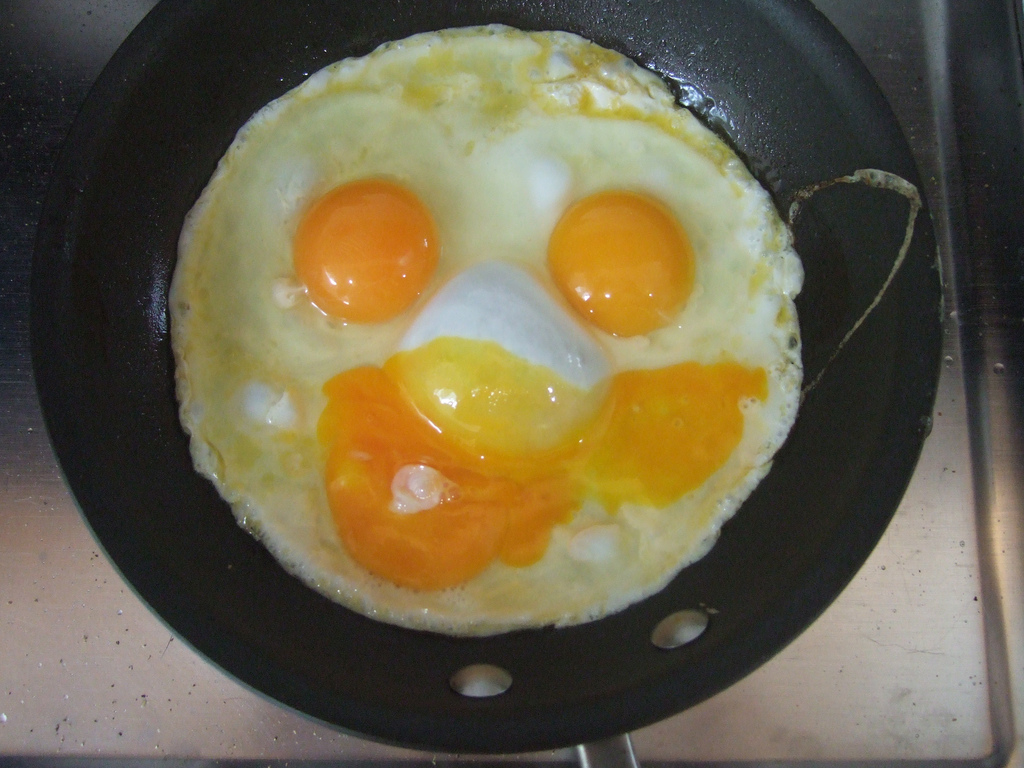fried egg: (260, 353, 711, 563), (245, 121, 516, 407), (509, 122, 762, 417)
